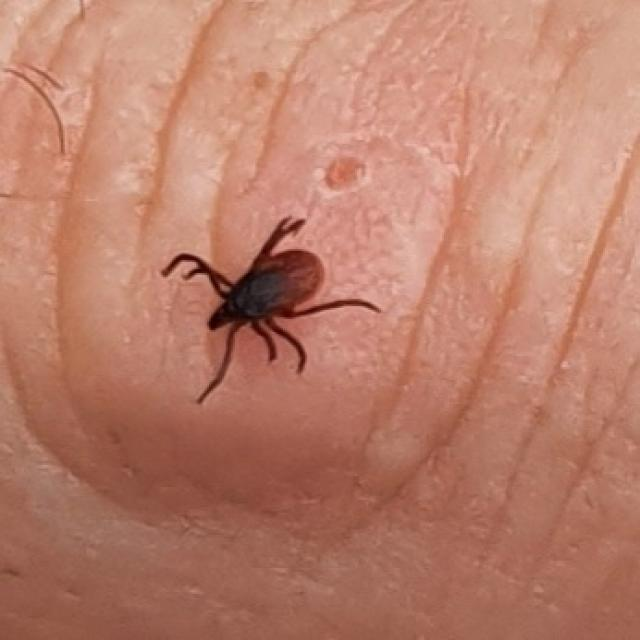Ixodes Ricinus-F: (159, 218, 379, 406)
